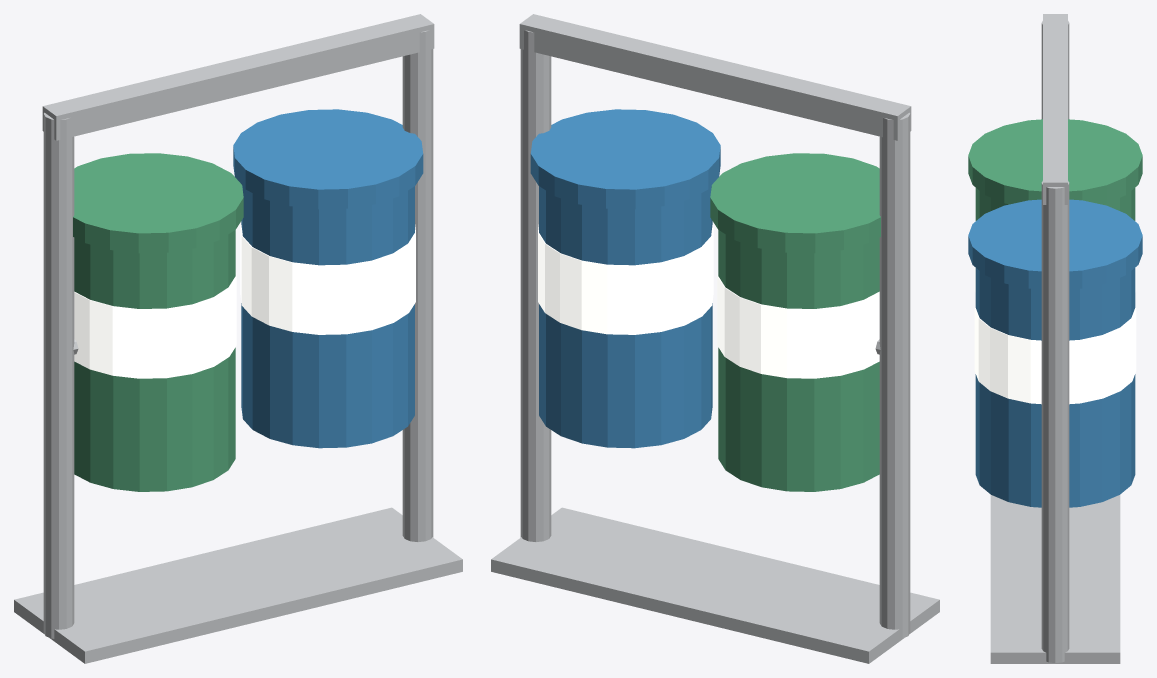
Rendered from prop_municipal_waste_bins_01.glb.
The picture shows the model from 3 angles, left to right: view 1: azimuth 30°, elevation 25°; view 2: azimuth 150°, elevation 25°; view 3: azimuth 270°, elevation 25°; orthographic projection. The views are drawn at different scales.
Parts seen in each view (by area): view 1: Bins_Base_Plate.003, Bins_Blue_Barrel.003, Bins_Green_Barrel.003, Bins_Stanchion_L.003, Bins_Blue_Rim.003, Bins_Green_Rim.003, Bins_Top_Crossbar.003, Bins_Blue_Decal.003, Bins_Stanchion_R.003, Bins_Green_Decal.003; view 2: Bins_Base_Plate.003, Bins_Blue_Barrel.003, Bins_Green_Barrel.003, Bins_Stanchion_L.003, Bins_Blue_Rim.003, Bins_Green_Rim.003, Bins_Top_Crossbar.003, Bins_Blue_Decal.003, Bins_Stanchion_R.003, Bins_Green_Decal.003; view 3: Bins_Blue_Barrel.003, Bins_Base_Plate.003, Bins_Stanchion_R.003, Bins_Blue_Rim.003, Bins_Green_Rim.003, Bins_Blue_Decal.003, Bins_Top_Crossbar.003, Bins_Green_Barrel.003, Bins_Stanchion_L.003.
Part boxes in pixels (x1,y1,x2,y2): Bins_Base_Plate.003: [14, 507, 462, 663]; Bins_Blue_Barrel.003: [241, 186, 414, 448]; Bins_Green_Barrel.003: [74, 230, 235, 491]; Bins_Stanchion_L.003: [43, 112, 74, 638]; Bins_Blue_Rim.003: [233, 109, 423, 209]; Bins_Green_Rim.003: [73, 153, 243, 253]; Bins_Top_Crossbar.003: [42, 14, 434, 140]; Bins_Blue_Decal.003: [240, 223, 415, 334]; Bins_Stanchion_R.003: [402, 30, 433, 541]; Bins_Green_Decal.003: [74, 270, 236, 378]; Bins_Base_Plate.003: [491, 507, 939, 663]; Bins_Blue_Barrel.003: [539, 186, 712, 448]; Bins_Green_Barrel.003: [718, 230, 879, 491]; Bins_Stanchion_L.003: [879, 112, 910, 638]; Bins_Blue_Rim.003: [530, 109, 720, 209]; Bins_Green_Rim.003: [710, 153, 880, 253]; Bins_Top_Crossbar.003: [519, 14, 911, 140]; Bins_Blue_Decal.003: [538, 223, 713, 334]; Bins_Stanchion_R.003: [520, 30, 551, 541]; Bins_Green_Decal.003: [717, 270, 879, 378]; Bins_Blue_Barrel.003: [975, 268, 1135, 507]; Bins_Base_Plate.003: [990, 495, 1120, 663]; Bins_Stanchion_R.003: [1041, 181, 1069, 662]; Bins_Blue_Rim.003: [968, 199, 1142, 289]; Bins_Green_Rim.003: [968, 119, 1142, 204]; Bins_Blue_Decal.003: [974, 306, 1136, 404]; Bins_Top_Crossbar.003: [1043, 14, 1067, 204]; Bins_Green_Barrel.003: [975, 188, 1135, 220]; Bins_Stanchion_L.003: [1041, 21, 1069, 119].
Size of what is drawn, in the model's own units: 0.816 by 1.07 by 0.35.
